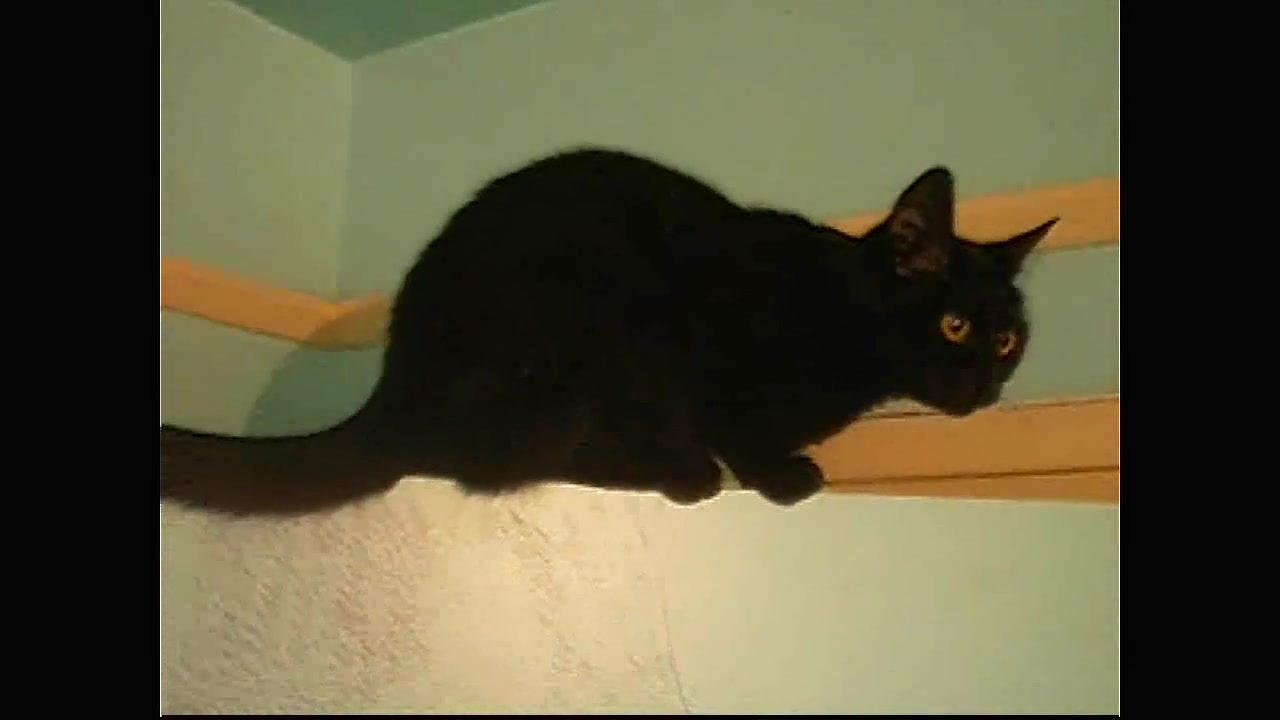cat: (164, 144, 1066, 521)
